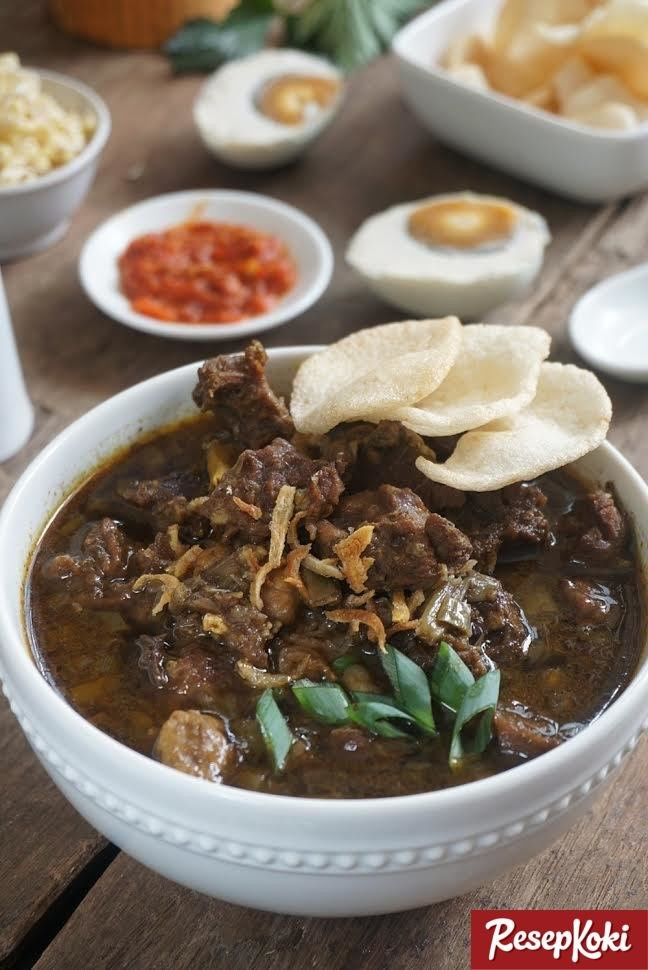rawon: (78, 388, 592, 763)
